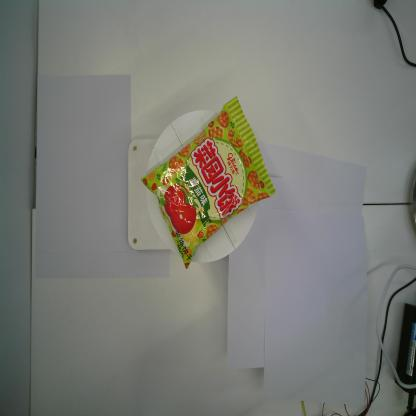Puffed Food: (140, 95, 275, 273)
